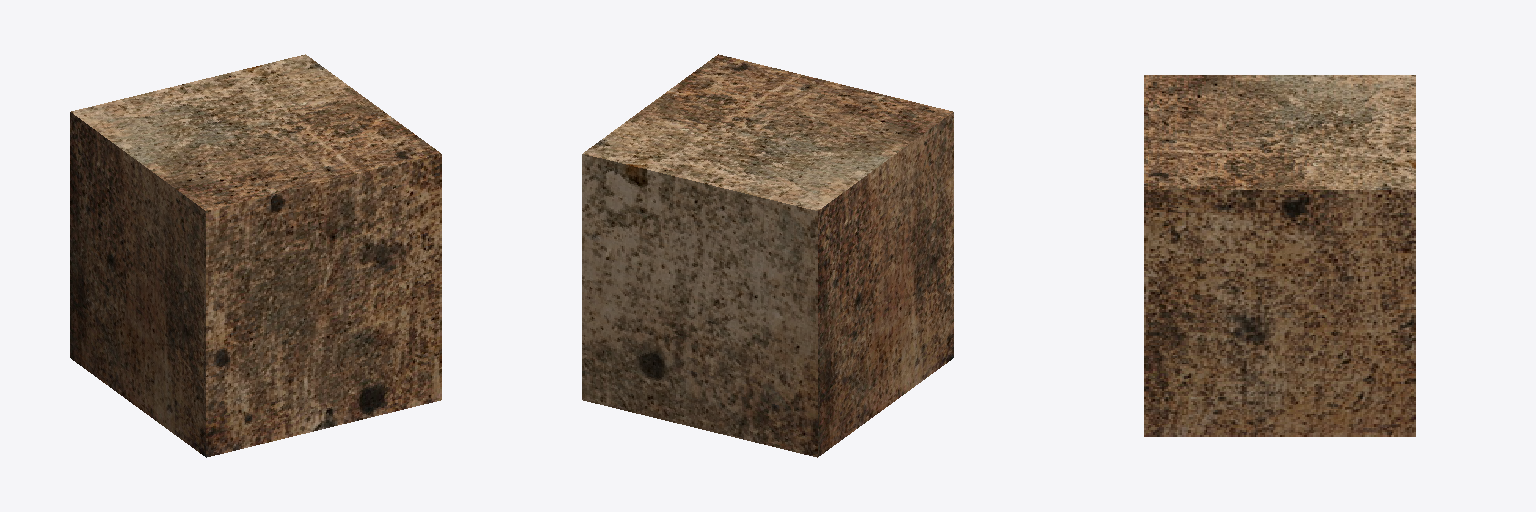
3 views of the same model, side by side, from view 1: azimuth 30°, elevation 25°; view 2: azimuth 150°, elevation 25°; view 3: azimuth 270°, elevation 25° (orthographic).
Parts seen in each view (by area): view 1: pCube1; view 2: pCube1; view 3: pCube1.
Part boxes in pixels (x1,y1,x2,y2): pCube1: (70, 54, 441, 457); pCube1: (582, 54, 953, 457); pCube1: (1144, 75, 1415, 436).
Bounding box in the file's own units: 4 × 4 × 4.
Materials: 1 (1 with a texture image).